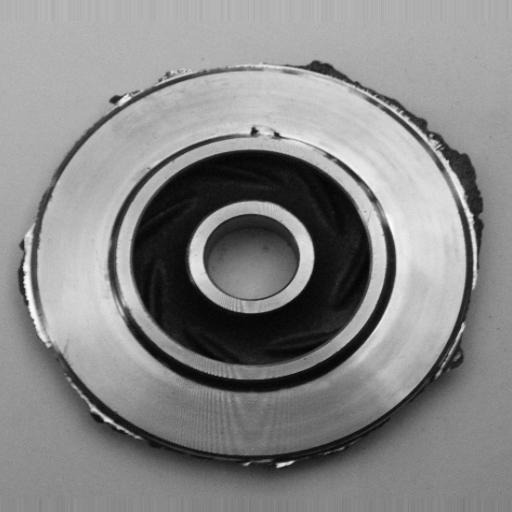casting_with_burr: (13, 56, 490, 475)
crack: (238, 120, 286, 146)
scratch: (103, 265, 146, 335), (280, 126, 346, 157)
